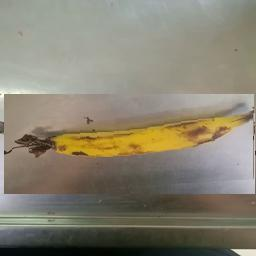Banana Semirotten: (5, 94, 256, 194)
